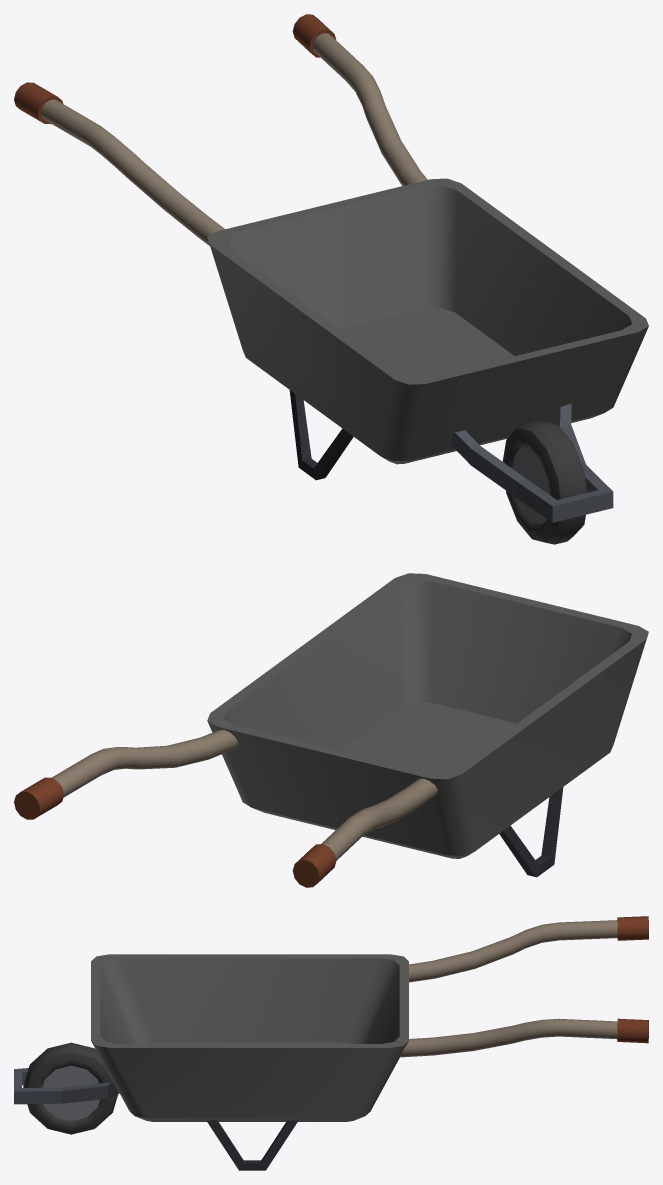
File: GardenCart_3.fbx
3 views of the same model, one above another, from view 1: azimuth 30°, elevation 25°; view 2: azimuth 150°, elevation 25°; view 3: azimuth 270°, elevation 25° (orthographic). The views are drawn at different scales.
Parts seen in each view (by area): view 1: GardenCart_3; view 2: GardenCart_3; view 3: GardenCart_3.
Boxes of the visible parts, box(x1,y1,x2,y2) form: GardenCart_3: box(14, 14, 648, 544); GardenCart_3: box(14, 573, 648, 887); GardenCart_3: box(14, 916, 648, 1170).
Size of the model in its own units: 150 by 100 by 355.
